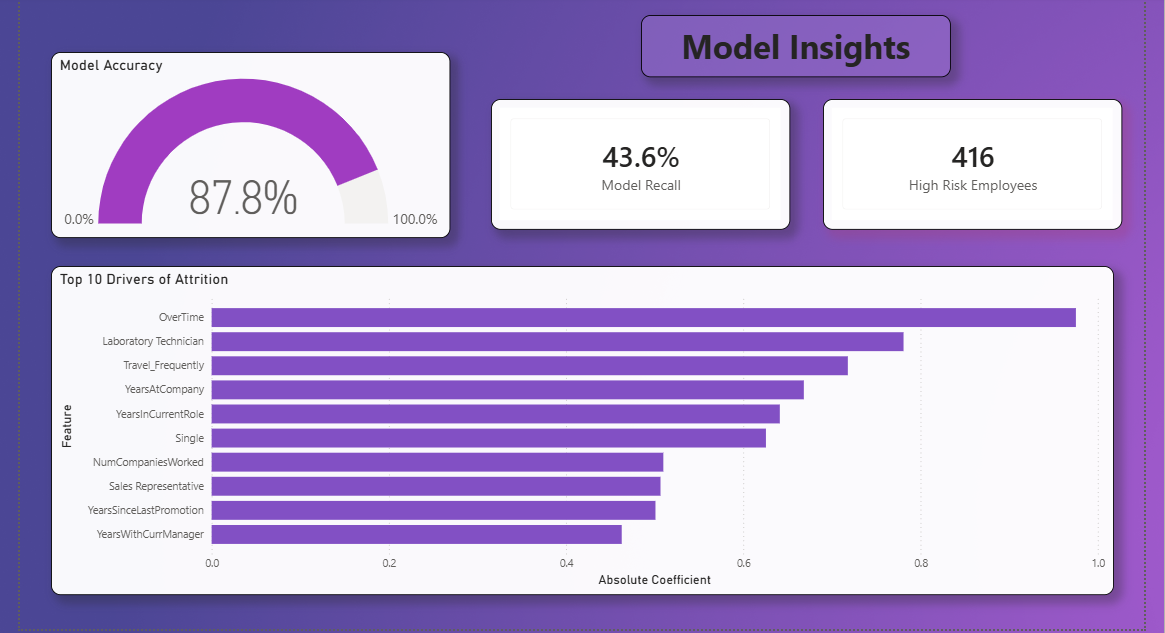

Layout of this report page (visuals, bound fields, positions):
{"tool":"powerbi","page":{"name":"Deep Dive","canvas":[1280,720],"ordinal":1},"visuals":[{"type":"clusteredBarChart","title":"Top 10 Drivers of Attrition","fields":{"Y":["Sum(feature_importance.Abs_Coefficient)"],"Category":["feature_importance.Feature_Clean"]},"box":[35.5,306.6,1210.5,375],"z":0},{"type":"gauge","fields":{"Y":["feature_importance.Model Accuracy"]},"box":[35.5,63.2,455.3,211.8],"z":1000},{"type":"cardVisual","fields":{"Data":["feature_importance.Model Recall"]},"box":[536.8,115.8,340.8,148.7],"z":2000},{"type":"cardVisual","fields":{"Data":["feature_importance.High Risk Employees"]},"box":[914.5,115.8,340.8,148.7],"z":3000},{"type":"textbox","box":[707.9,21.1,352.6,71.1],"z":4000}]}

Visuals, with their boxes in screenshot pixels (x1, y1, x2, y2):
"Top 10 Drivers of Attrition" clusteredBarChart: 52,263,1103,589
gauge - feature_importance.Model Accuracy: 52,52,447,236
cardVisual - feature_importance.Model Recall: 487,98,783,227
cardVisual - feature_importance.High Risk Employees: 815,98,1111,227
textbox: 636,15,942,77
